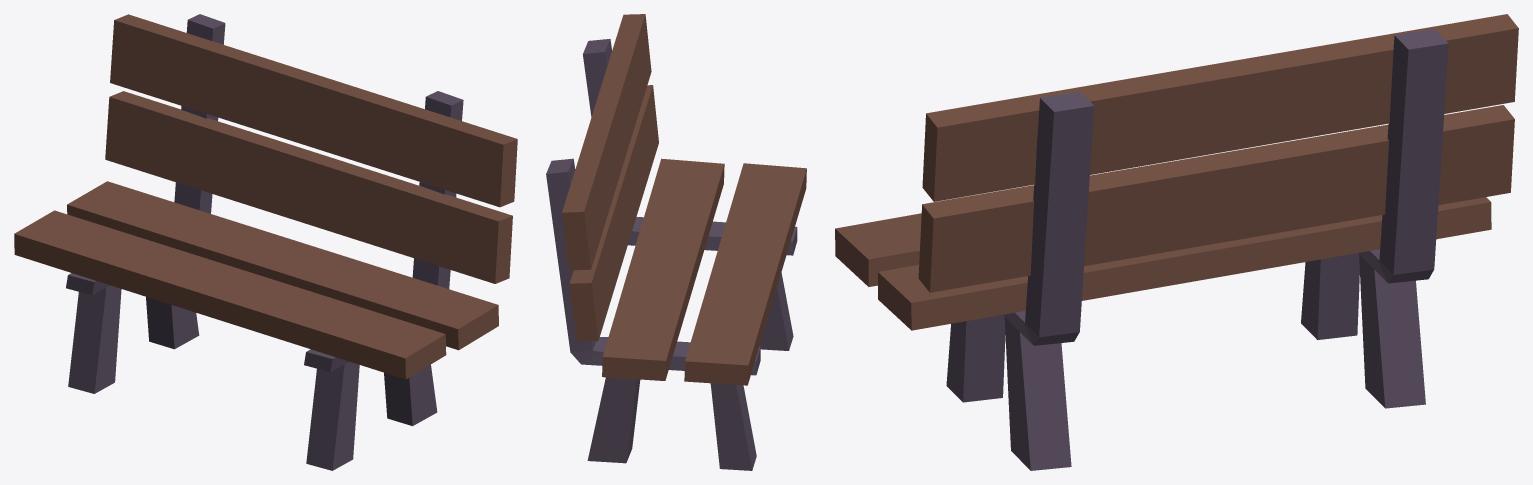
Rendered from bench.fbx.
3 renders of one model, left to right at view 1: azimuth 30°, elevation 25°; view 2: azimuth 150°, elevation 25°; view 3: azimuth 270°, elevation 25°, orthographic. The views are drawn at different scales.
Visible parts, largest first — view 1: bench.001; view 2: bench.001; view 3: bench.001.
Boxes of the visible parts, x1=… form: bench.001: x1=14, y1=14, x2=517, y2=470; bench.001: x1=546, y1=14, x2=806, y2=470; bench.001: x1=835, y1=14, x2=1518, y2=470.
Bounding box in the file's own units: 79.69 × 72.51 × 116.
